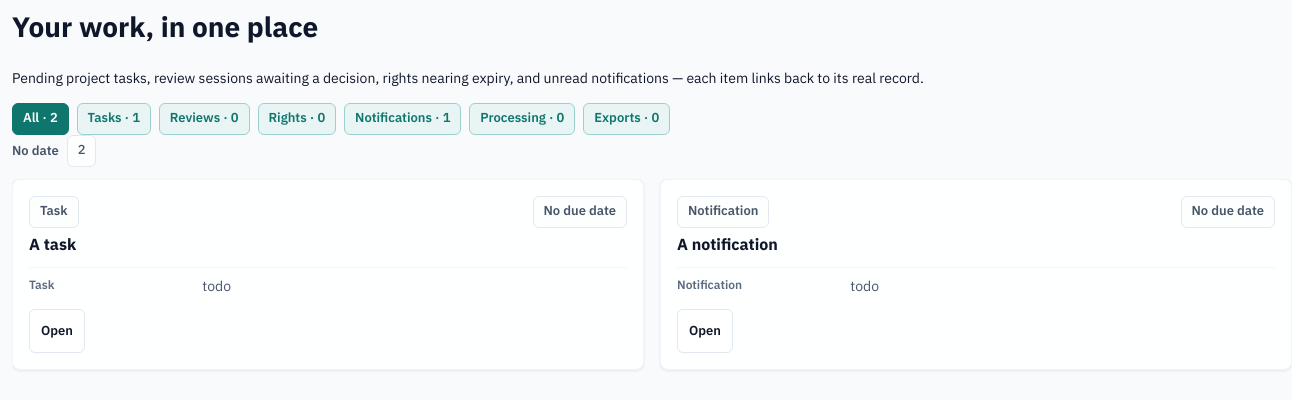
Scenario: filter chips narrow the list to a single source type without re-fetching
Expected: the heading "A task" is shown, top-left (29, 232), bottom-right (76, 256)
Click the button "Tasks · 1" at (114, 118), box top-left (77, 102), bottom-right (151, 134)
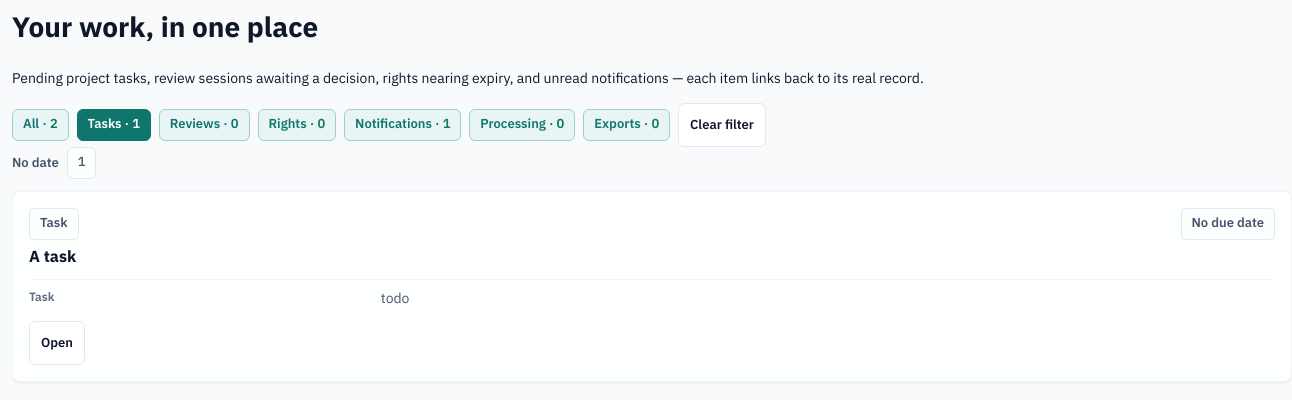
Expected: the heading "A task" is shown, top-left (29, 244), bottom-right (76, 268)
Now the heading "A notification" is gone
